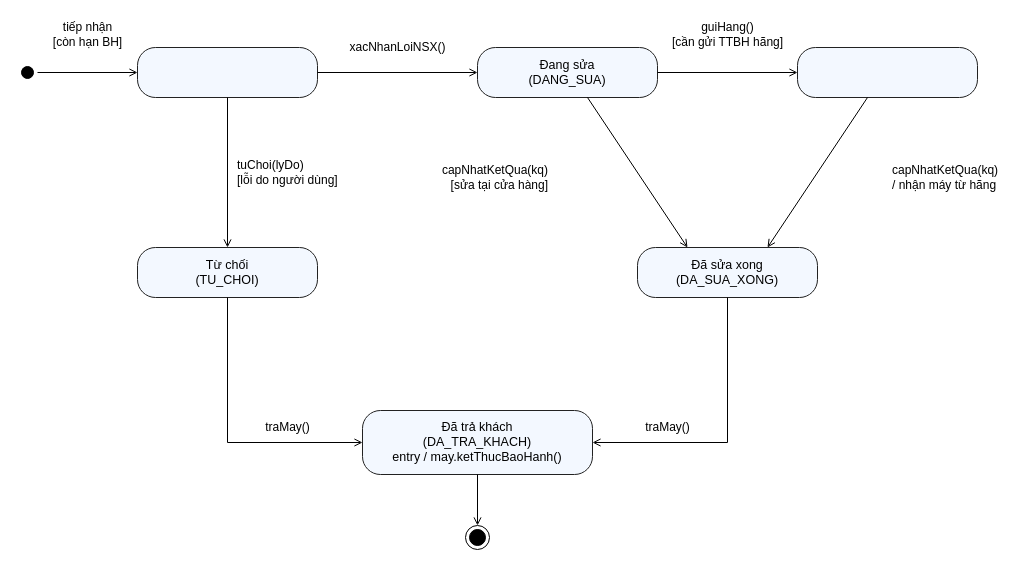
Image size: 1029x567. Some labels were removed from this diagram. The shapes that lost their labels are listed below. From the top down, each one's box as (x1, y1, x2, y2) in pixels, then its label:
(136, 46, 318, 98): Đã tiếp nhận (DA_TIEP_NHAN)
(796, 46, 978, 98): Chờ hãng (CHO_HANG)
